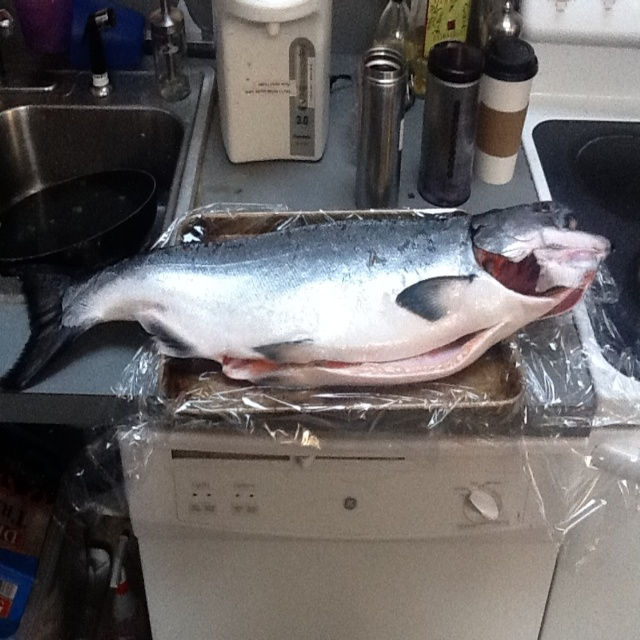Fish: (0, 202, 615, 391)
